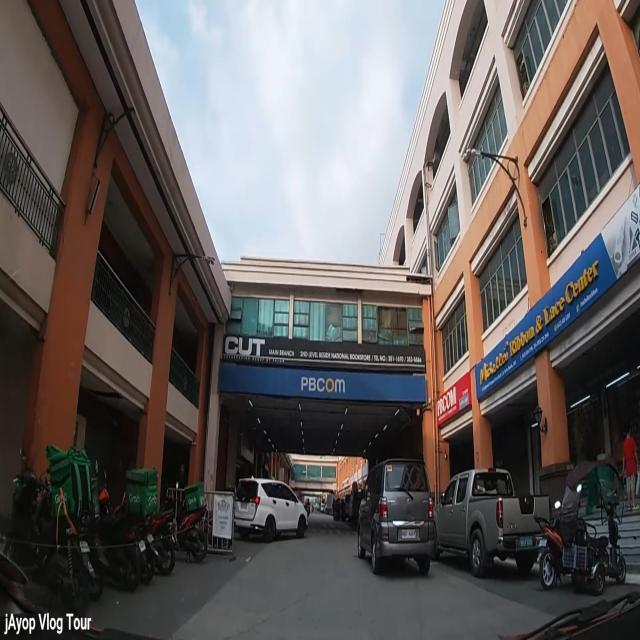car: (432, 467, 552, 579), (357, 459, 433, 577), (232, 476, 308, 540)
motorcycle: (8, 444, 102, 604), (97, 478, 175, 586), (534, 482, 582, 590), (162, 482, 208, 564)
tricycle: (559, 461, 628, 595)
